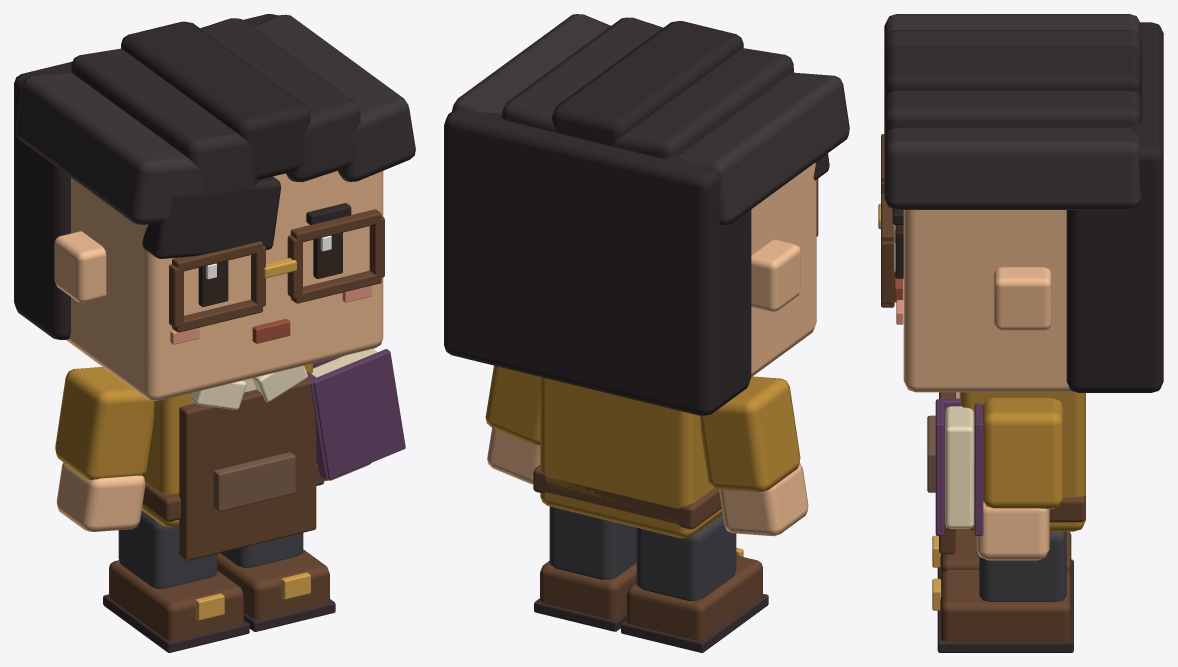
File: NPC05_registry_clerk.glb
3 views of the same model, side by side, from view 1: azimuth 30°, elevation 25°; view 2: azimuth 150°, elevation 25°; view 3: azimuth 270°, elevation 25° (orthographic). The views are drawn at different scales.
Visible parts, largest first — view 1: Face, Apron, HairLock, _MeshInstance3D_81, _MeshInstance3D_80, HairBack, Sleeve, _MeshInstance3D_83, _MeshInstance3D_74, _MeshInstance3D_82, Fringe, Boot (+28 smaller); view 2: HairBack, Jacket, HairLock, _MeshInstance3D_81, Sleeve, _MeshInstance3D_80, Face, Trousers, _MeshInstance3D_82, Boot, _MeshInstance3D_83, Trousers2 (+8 smaller); view 3: Face, HairBack, _MeshInstance3D_83, _MeshInstance3D_81, _MeshInstance3D_82, Sleeve2, Boot2, _MeshInstance3D_80, Trousers2, HairLock, _MeshInstance3D_75, Hand2 (+12 smaller).
Boxes of the visible parts, x1,y1,x2,y2 form: Face: [66, 170, 383, 400]; Apron: [179, 377, 316, 560]; HairLock: [15, 73, 205, 224]; _MeshInstance3D_81: [121, 21, 310, 179]; _MeshInstance3D_80: [71, 48, 257, 195]; HairBack: [14, 14, 278, 339]; Sleeve: [55, 367, 154, 480]; _MeshInstance3D_83: [253, 14, 415, 181]; _MeshInstance3D_74: [313, 349, 405, 479]; _MeshInstance3D_82: [200, 18, 360, 181]; Fringe: [142, 176, 281, 258]; Boot: [109, 560, 243, 640]; HairBack: [444, 108, 751, 415]; Jacket: [540, 377, 722, 538]; HairLock: [679, 72, 849, 225]; _MeshInstance3D_81: [552, 21, 743, 145]; Sleeve: [700, 376, 800, 492]; _MeshInstance3D_80: [611, 48, 793, 158]; Face: [751, 162, 816, 376]; Trousers: [636, 514, 736, 600]; _MeshInstance3D_82: [501, 17, 662, 132]; Boot: [626, 555, 762, 640]; _MeshInstance3D_83: [452, 14, 610, 113]; Trousers2: [549, 506, 636, 579]; Face: [903, 210, 1075, 392]; HairBack: [1066, 22, 1163, 392]; _MeshInstance3D_83: [884, 128, 1141, 209]; _MeshInstance3D_81: [884, 46, 1141, 96]; _MeshInstance3D_82: [884, 90, 1141, 135]; Sleeve2: [983, 398, 1063, 509]; Boot2: [940, 570, 1071, 641]; _MeshInstance3D_80: [884, 30, 1141, 57]; Trousers2: [979, 531, 1066, 601]; HairLock: [884, 14, 1139, 40]; _MeshInstance3D_75: [993, 267, 1051, 330]; Hand2: [976, 502, 1049, 560].
Size of the model in its own units: 0.7291 by 1.25 by 0.5875.
